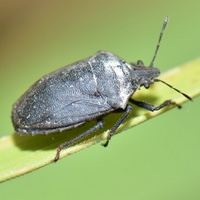insect: (12, 17, 191, 134)
